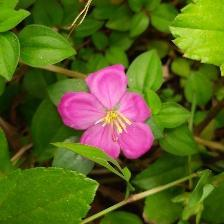malabar melastome: (59, 64, 159, 165)
